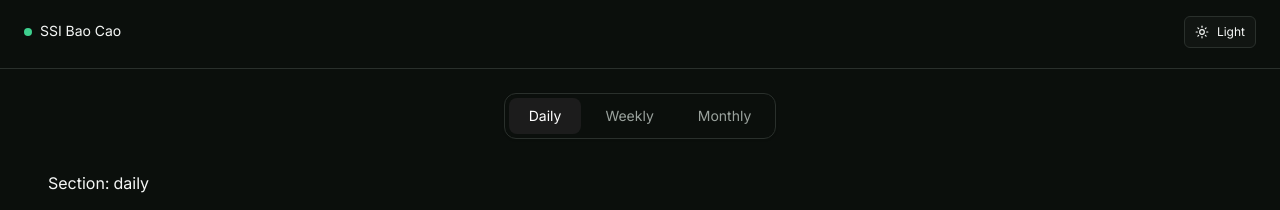
Test: DashboardLayout tabs › switches mode by click and keyboard with one active tab
Expected: the text "Section: daily" is shown, [48,173,149,193]
Step 1. Click the tab "Weekly" → (630, 116), box [585,98,674,134]
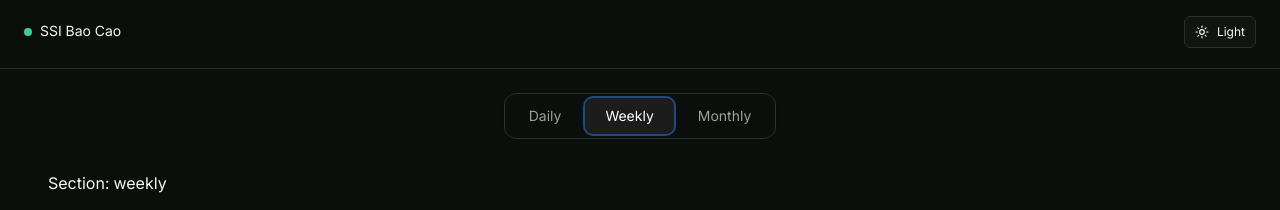
Result: the text "Section: weekly" is shown at [48,173,167,193]
Step 2. Press Arrowright
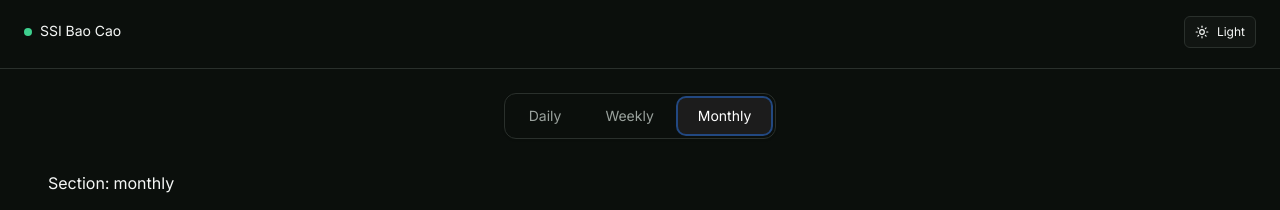
Result: the text "Section: monthly" is shown at [48,173,174,193]
